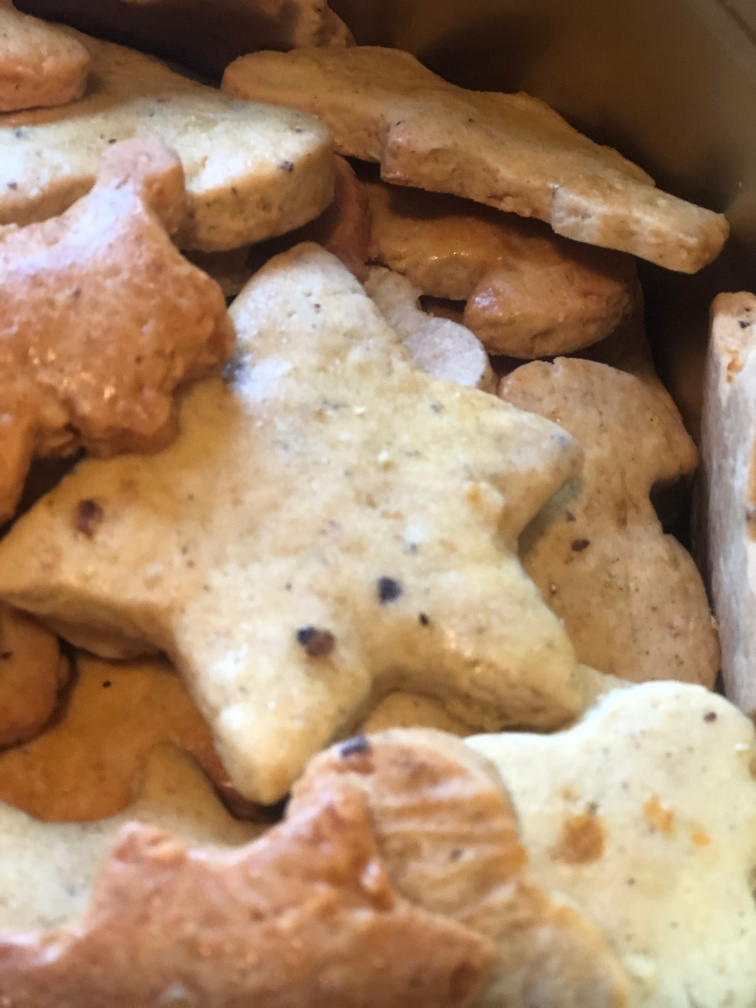king mage: (222, 28, 730, 275)
star: (1, 239, 586, 802), (2, 790, 508, 1008)
